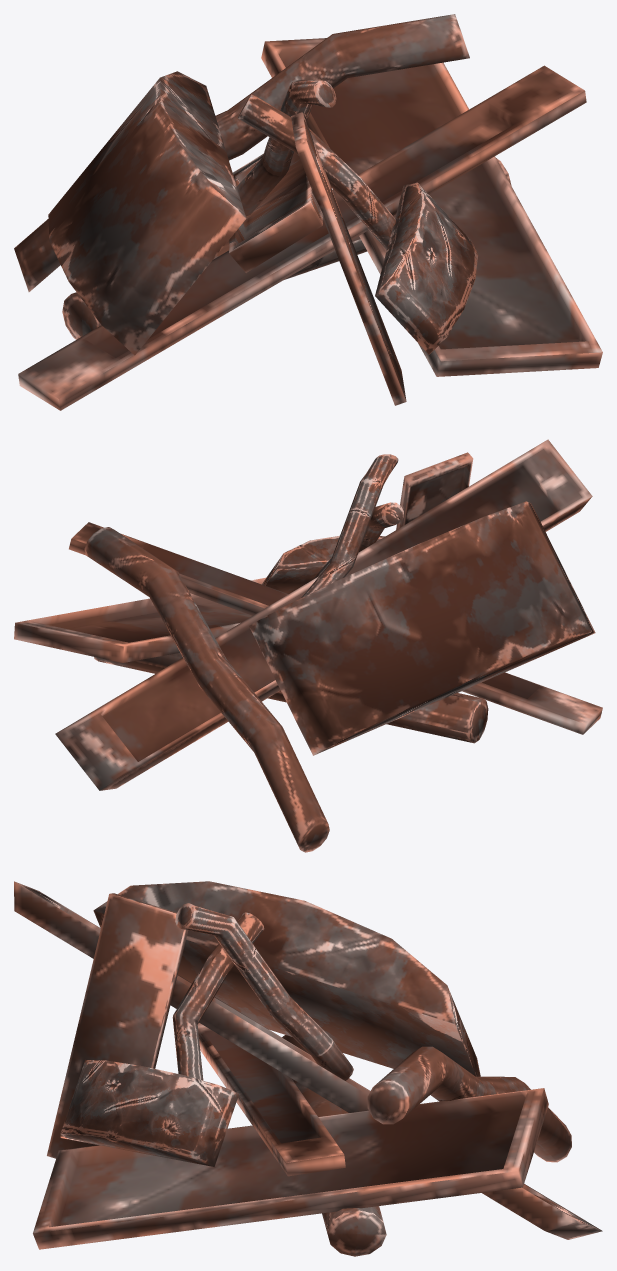
The model's file is P_Scrap_1.gltf.
3 views of the same model, one above another, from view 1: azimuth 30°, elevation 25°; view 2: azimuth 150°, elevation 25°; view 3: azimuth 270°, elevation 25° (orthographic). The views are drawn at different scales.
Parts seen in each view (by area): view 1: prop_scrap1; view 2: prop_scrap1; view 3: prop_scrap1.
Part boxes in pixels (left/top/right/bottom): prop_scrap1: left=14, top=14, right=602, bottom=410; prop_scrap1: left=14, top=439, right=602, bottom=852; prop_scrap1: left=14, top=881, right=602, bottom=1256.
Bounding box in the file's own units: 3.37 × 1.77 × 3.11.
Materials: 1 (1 with a texture image).
